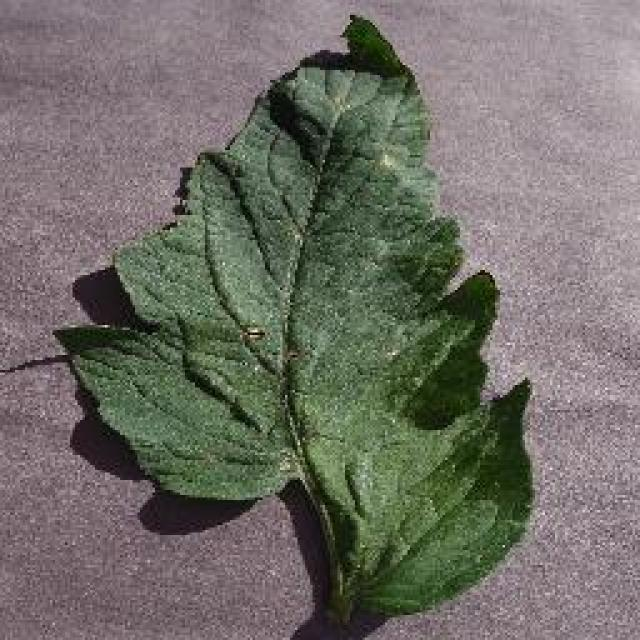Tom_Target_Spot: (222, 300, 318, 416), (364, 135, 416, 191)
